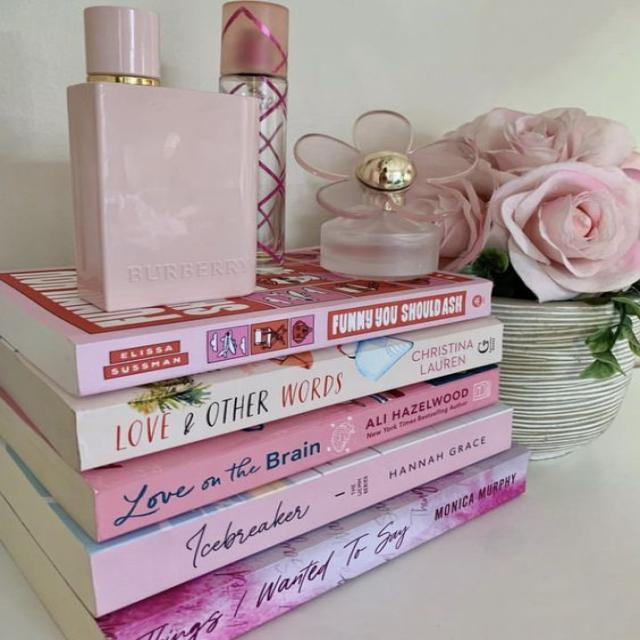book: (93, 409, 516, 614), (115, 450, 525, 639), (95, 371, 498, 541), (71, 324, 506, 474), (74, 281, 492, 396)
flowers: (429, 108, 639, 301)
